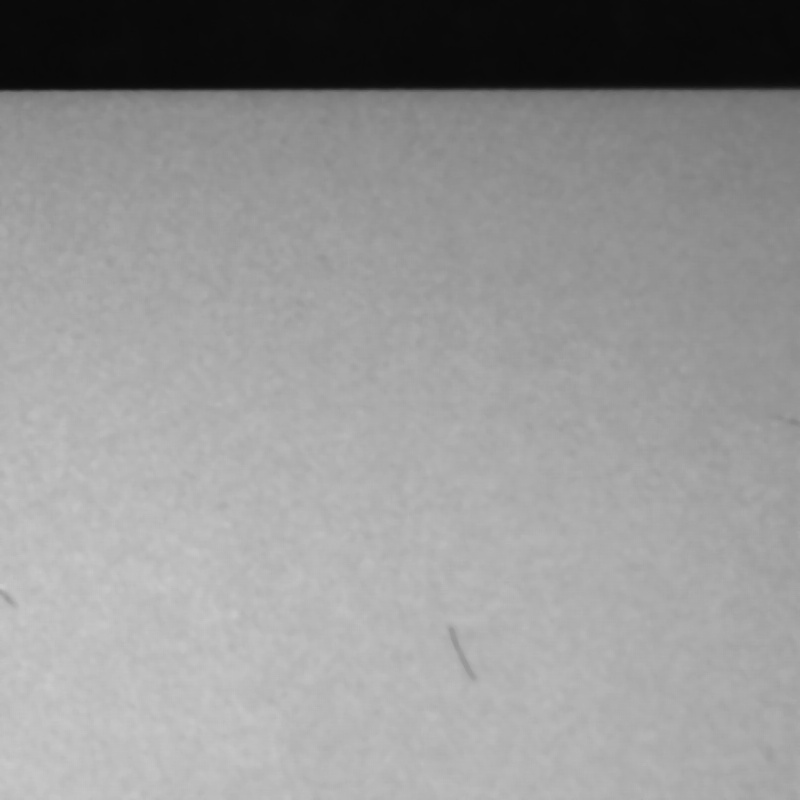defect: (444, 625, 481, 686), (3, 582, 21, 610)
